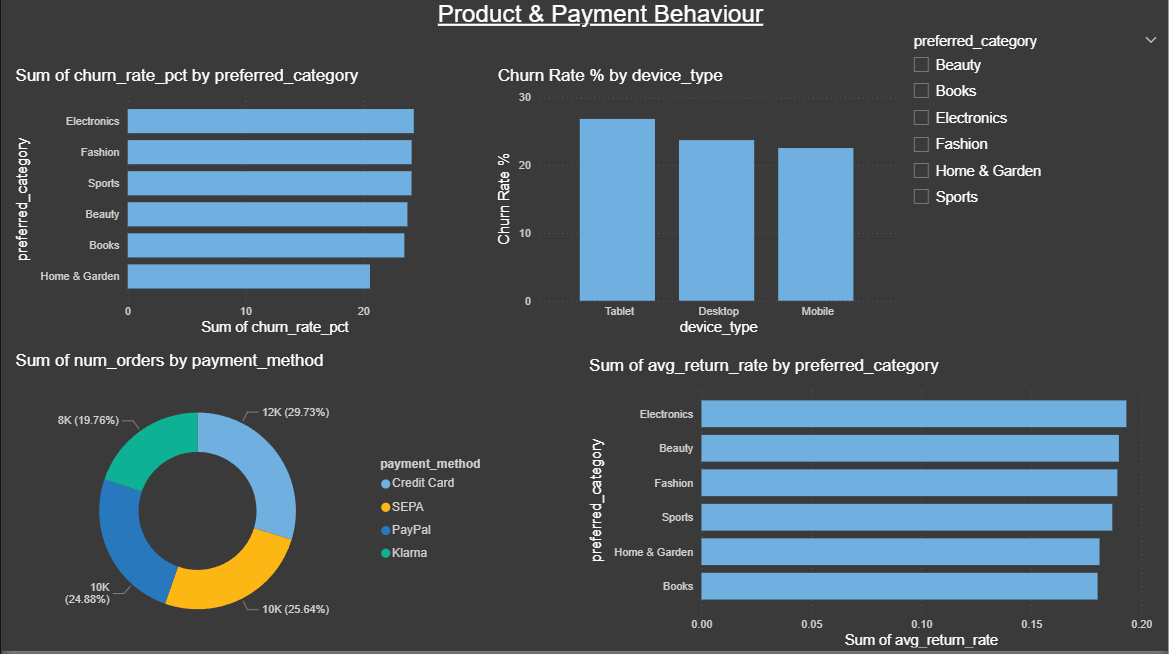

What the dashboard file says about the page in this screenshot:
{"tool":"powerbi","page":{"name":"Page 3","canvas":[1280,720],"ordinal":2},"visuals":[{"type":"textbox","box":[473.4,0,480.3,48],"z":0},{"type":"clusteredBarChart","fields":{"Category":["agg_churn_by_category.preferred_category"],"Y":["Sum(agg_churn_by_category.churn_rate_pct)"]},"box":[9.6,76.8,463.8,300.5],"z":1000},{"type":"clusteredBarChart","fields":{"Category":["agg_churn_by_category.preferred_category"],"Y":["Sum(agg_churn_by_category.avg_return_rate)"]},"box":[639.5,395.2,628.5,325.2],"z":2000},{"type":"donutChart","fields":{"Y":["Sum(fct_churn.num_orders)"],"Category":["fct_churn.payment_method"]},"box":[9.6,389.7,536.5,330.7],"z":3000},{"type":"slicer","fields":{"Values":["fct_churn.preferred_category"]},"box":[988,35.7,292.3,300.5],"z":4000},{"type":"clusteredColumnChart","fields":{"Category":["fct_churn.device_type"],"Y":["fct_churn.Churn Rate %"]},"box":[539.3,76.8,448.7,300.5],"z":5000}]}

Visuals, with their boxes in screenshot pixels (x1, y1, x2, y2), scaled from the page's 1280x720 canvas onto the 1169x654 screenshot:
textbox: (left=432, top=0, right=871, bottom=44)
clusteredBarChart - agg_churn_by_category.preferred_category x Sum(agg_churn_by_category.churn_rate_pct): (left=9, top=70, right=432, bottom=343)
clusteredBarChart - agg_churn_by_category.preferred_category x Sum(agg_churn_by_category.avg_return_rate): (left=584, top=359, right=1158, bottom=653)
donutChart - Sum(fct_churn.num_orders) x fct_churn.payment_method: (left=9, top=354, right=499, bottom=653)
slicer - fct_churn.preferred_category: (left=902, top=32, right=1168, bottom=305)
clusteredColumnChart - fct_churn.device_type x fct_churn.Churn Rate %: (left=493, top=70, right=902, bottom=343)
